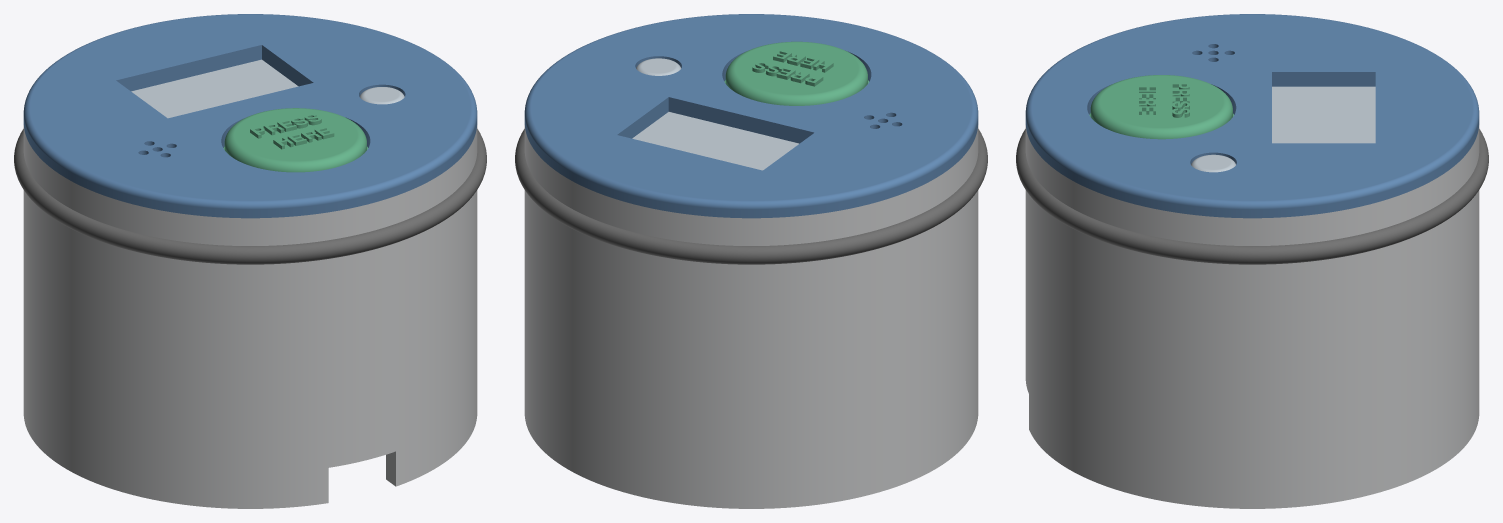
Rendered from esp2025_sa4_pod.glb.
3 renders of one model, left to right at view 1: azimuth 30°, elevation 25°; view 2: azimuth 150°, elevation 25°; view 3: azimuth 270°, elevation 25°, orthographic.
Visible parts, largest first — view 1: pod column, pod cap, pod O-ring, PRESS HERE button, display window, light lens; view 2: pod column, pod cap, pod O-ring, PRESS HERE button, display window, light lens; view 3: pod column, pod cap, pod O-ring, PRESS HERE button, display window, light lens.
Boxes of the visible parts, x1,y1,x2,y2 form: pod column: (23, 125, 477, 508); pod cap: (23, 14, 477, 218); pod O-ring: (14, 129, 486, 264); PRESS HERE button: (223, 108, 368, 172); display window: (131, 59, 298, 118); light lens: (359, 87, 404, 104); pod column: (524, 125, 978, 508); pod cap: (524, 14, 978, 218); pod O-ring: (515, 129, 987, 264); PRESS HERE button: (724, 41, 868, 105); display window: (632, 112, 798, 170); light lens: (636, 58, 681, 75); pod column: (1025, 125, 1479, 508); pod cap: (1025, 14, 1479, 218); pod O-ring: (1016, 129, 1488, 264); PRESS HERE button: (1089, 75, 1233, 139); display window: (1272, 86, 1375, 143); light lens: (1191, 154, 1235, 172).
Bounding box in the file's own units: 73 × 53.6 × 72.98.
